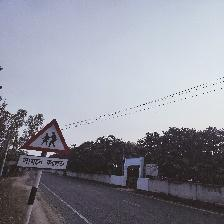College-in-front: (9, 101, 78, 178)
